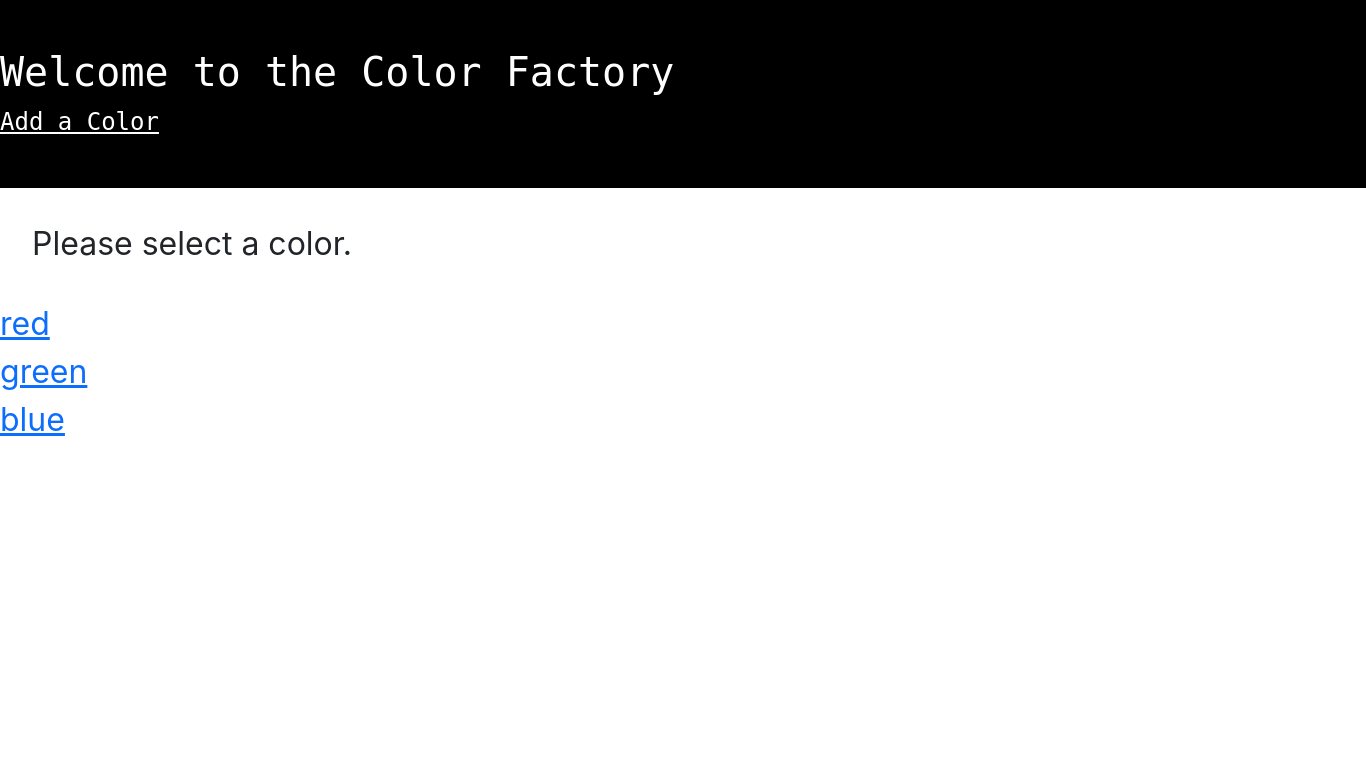
it: renders /colors
Expected: the heading "Welcome to the Color Factory" is shown, [0,49,674,95]
Click the link "green". click: (44, 372)
box: [0,352,87,391]
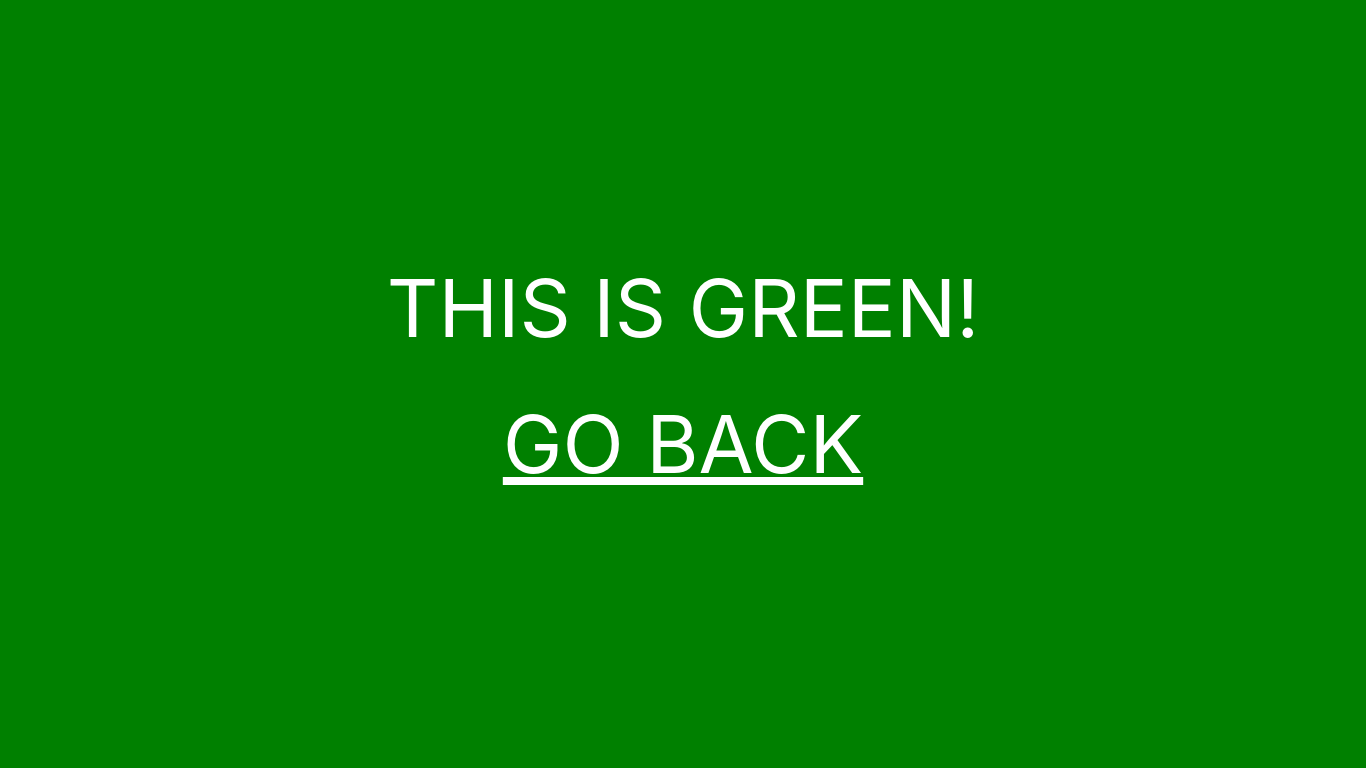
Expected: the text "This is green!" is shown, [387,248,979,368]
